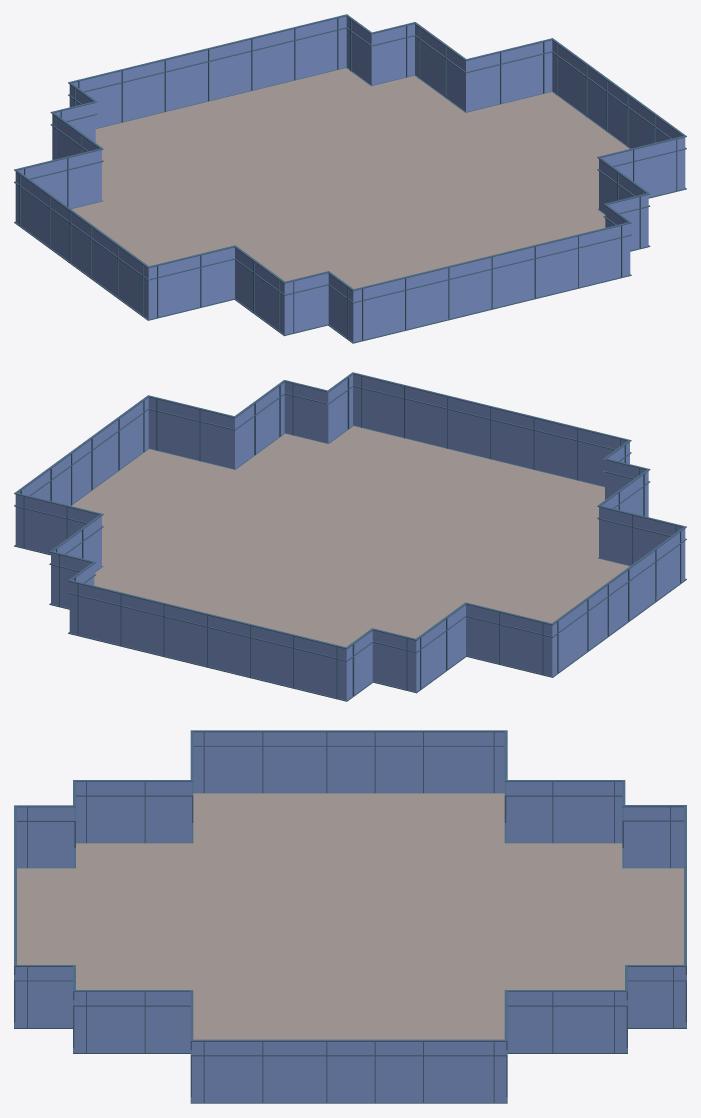
File: 26. Floor plans 26TH Floor.glb
3 renders of one model, top to bottom at view 1: azimuth 30°, elevation 25°; view 2: azimuth 150°, elevation 25°; view 3: azimuth 270°, elevation 25°, orthographic. The views are drawn at different scales.
Visible parts, largest first — view 1: Floor plans 26TH (1), Floor plans 26TH Window Glass, Floor plans 26TH Window Joinery; view 2: Floor plans 26TH (1), Floor plans 26TH Window Glass, Floor plans 26TH Window Joinery; view 3: Floor plans 26TH (1), Floor plans 26TH Window Glass, Floor plans 26TH Window Joinery.
Boxes of the visible parts, x1,y1,x2,y2 form: Floor plans 26TH (1): [71, 68, 629, 288]; Floor plans 26TH Window Glass: [15, 16, 685, 342]; Floor plans 26TH Window Joinery: [14, 14, 686, 343]; Floor plans 26TH (1): [71, 426, 629, 646]; Floor plans 26TH Window Glass: [15, 374, 685, 700]; Floor plans 26TH Window Joinery: [14, 372, 686, 701]; Floor plans 26TH (1): [17, 793, 683, 1039]; Floor plans 26TH Window Glass: [15, 732, 685, 1102]; Floor plans 26TH Window Joinery: [14, 730, 686, 1103].
Size of the model in its own units: 38.04 by 3.59 by 34.81.
